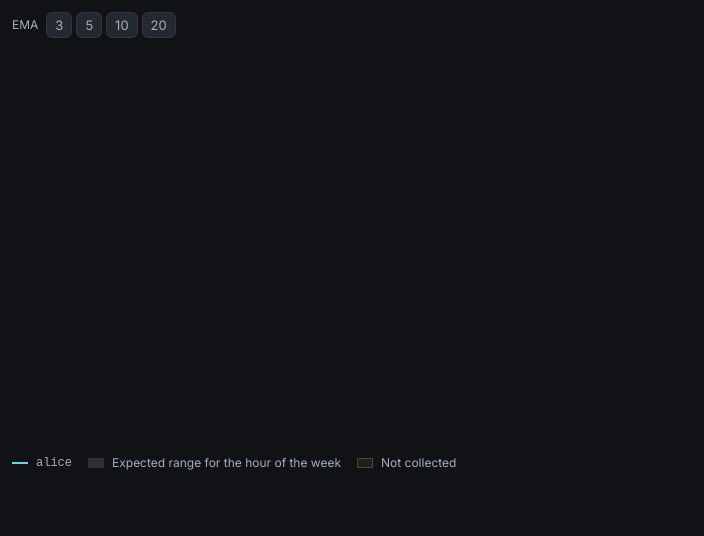
PropertyWatchSeriesChart EMA overlay › averages the single plotted value, and the legend and tooltip name it
Click the button named "EMA 3": (59, 25) [46,12,72,38]
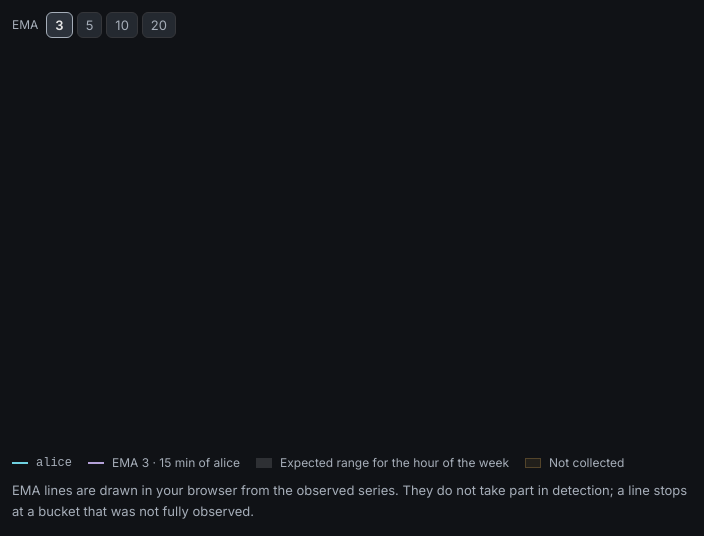
Expected: the list item "EMA 3 · 15 min of alice" is shown, [88,454,240,472]
